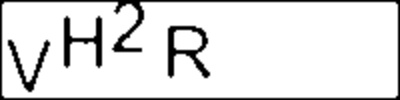2: (111, 1, 151, 56)
H: (60, 14, 107, 70)
R: (163, 22, 215, 81)
V: (4, 33, 55, 96)
